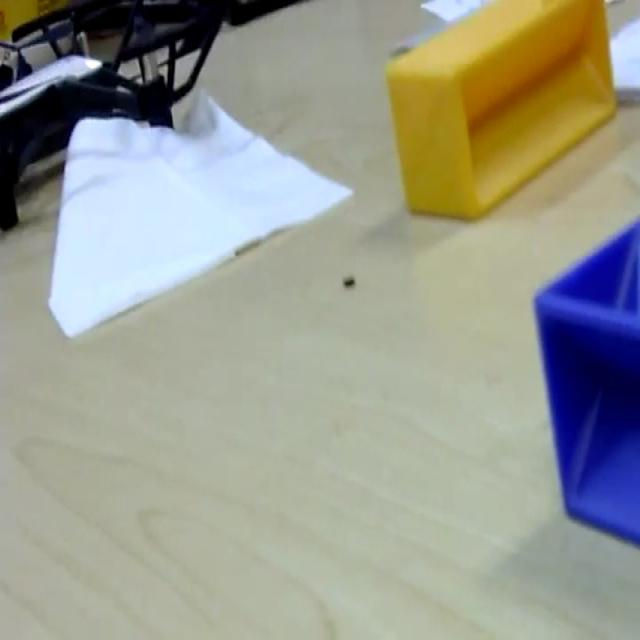blue_block: (531, 213, 639, 547)
yellow_block: (384, 0, 618, 220)
